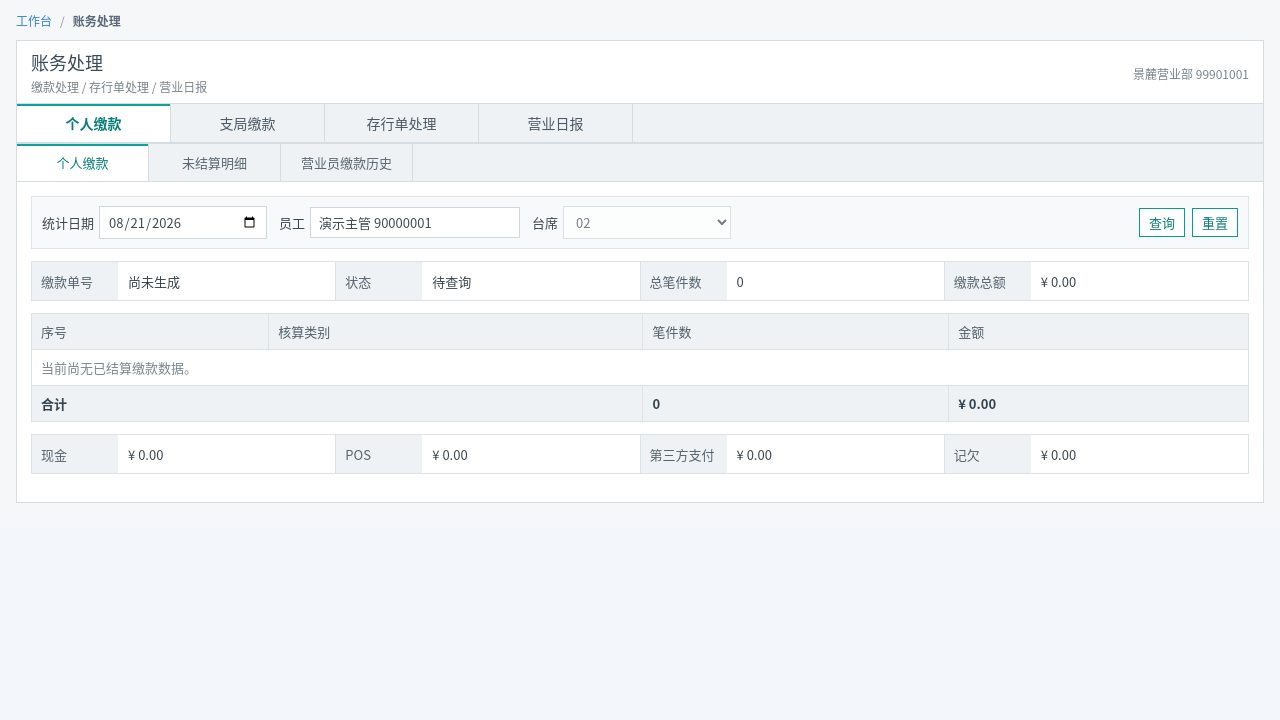
Scenario: AccountingWorkspace › does not offer branch confirmation when there is no remittance data
Click the button "支局缴款".
click(248, 123)  # box x1=171 y1=104 x2=325 y2=142
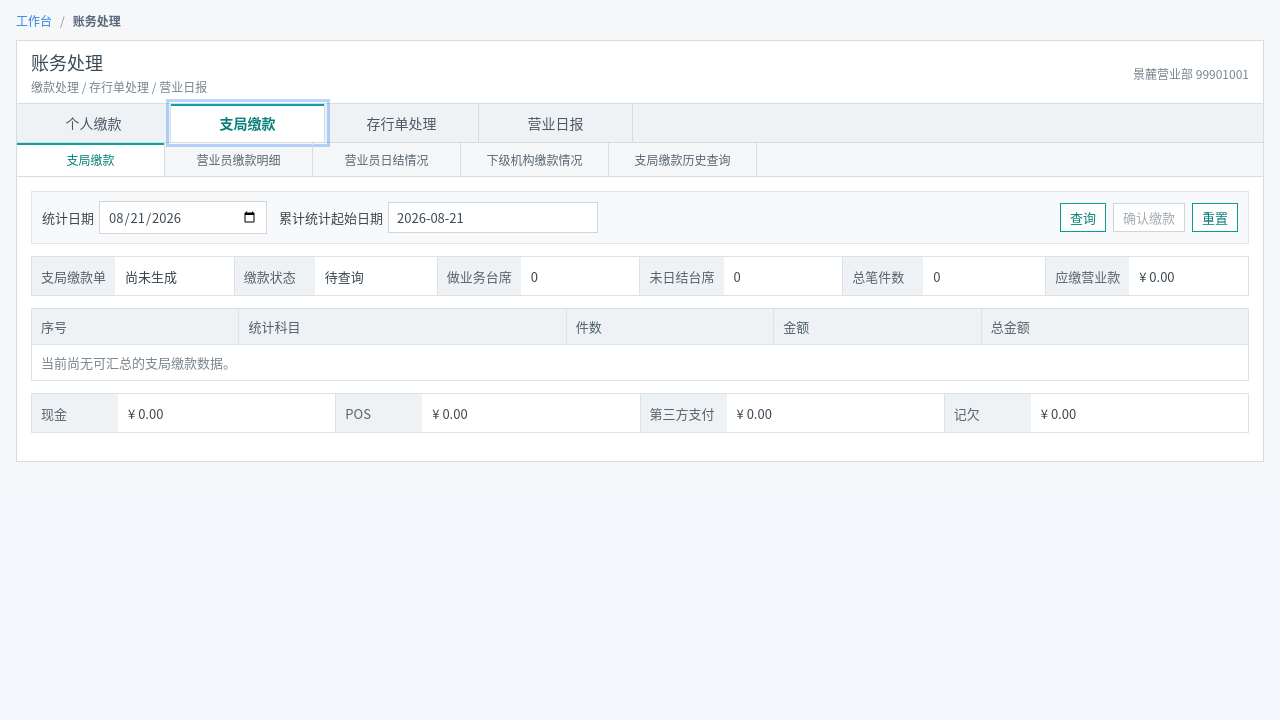
Now the text "当前尚无可汇总的支局缴款数据。" is shown, box x1=32 y1=344 x2=1248 y2=380
Now the button "确认缴款" is disabled, box x1=1113 y1=203 x2=1185 y2=232
Click the button "存行单处理".
click(402, 123)  # box x1=325 y1=104 x2=479 y2=142
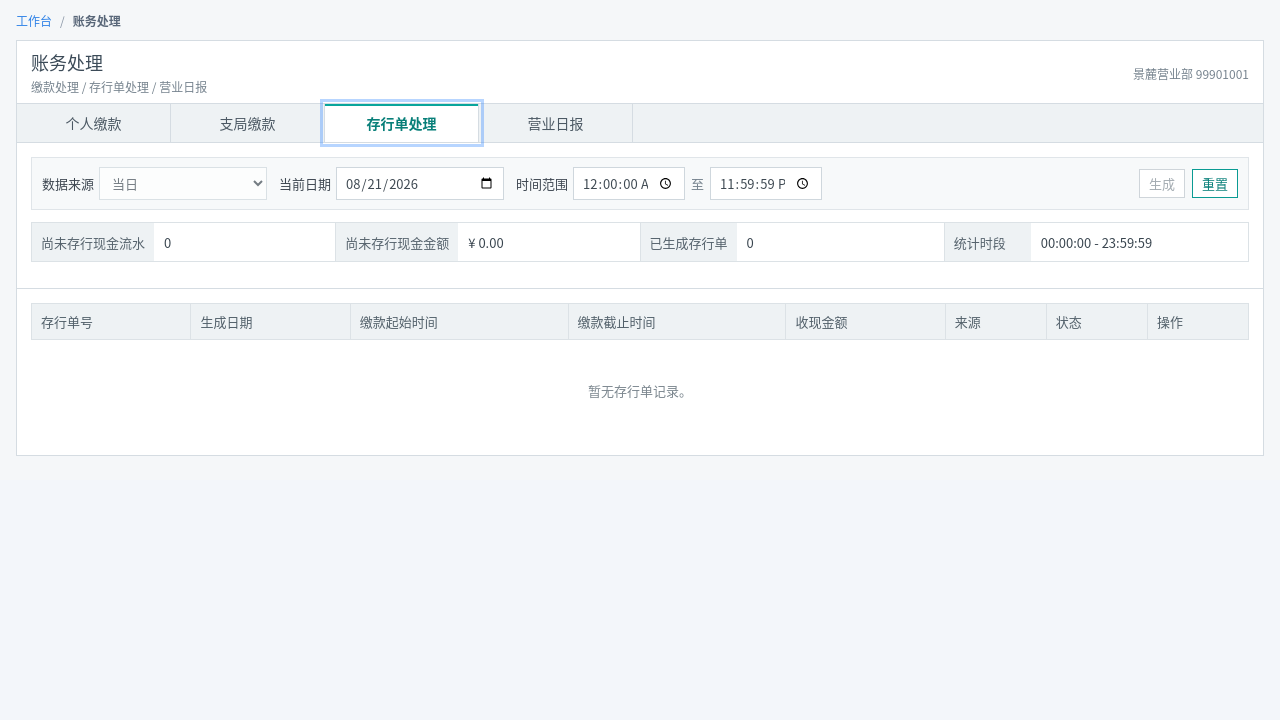
Now the text "暂无存行单记录。" is shown, box x1=588 y1=381 x2=692 y2=400
Now the button "生成" is disabled, box x1=1139 y1=169 x2=1185 y2=198
